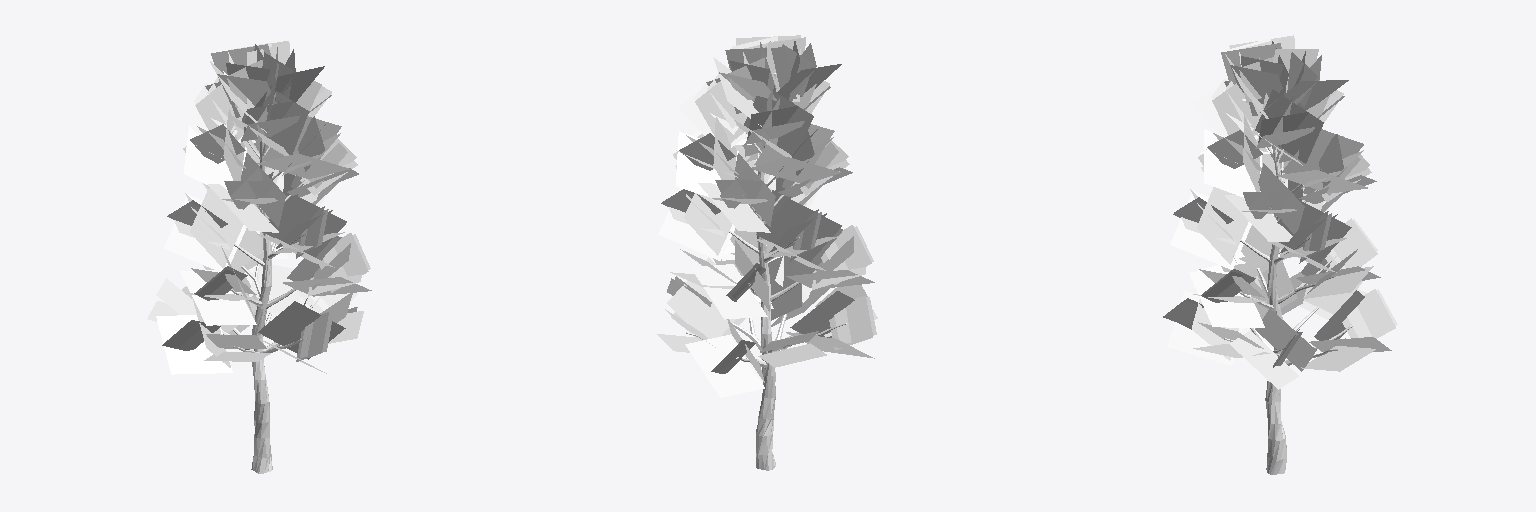
File: beech_obj.obj
3 renders of one model, left to right at view 1: azimuth 30°, elevation 25°; view 2: azimuth 150°, elevation 25°; view 3: azimuth 270°, elevation 25°, orthographic.
Visible parts, largest first — view 1: tree; view 2: tree; view 3: tree.
Part boxes in pixels (x1,y1,x2,y2): tree: (147,41,371,473); tree: (657,35,877,470); tree: (1163,35,1397,474).
Size of the model in its own units: 43.01 by 86.6 by 43.42.